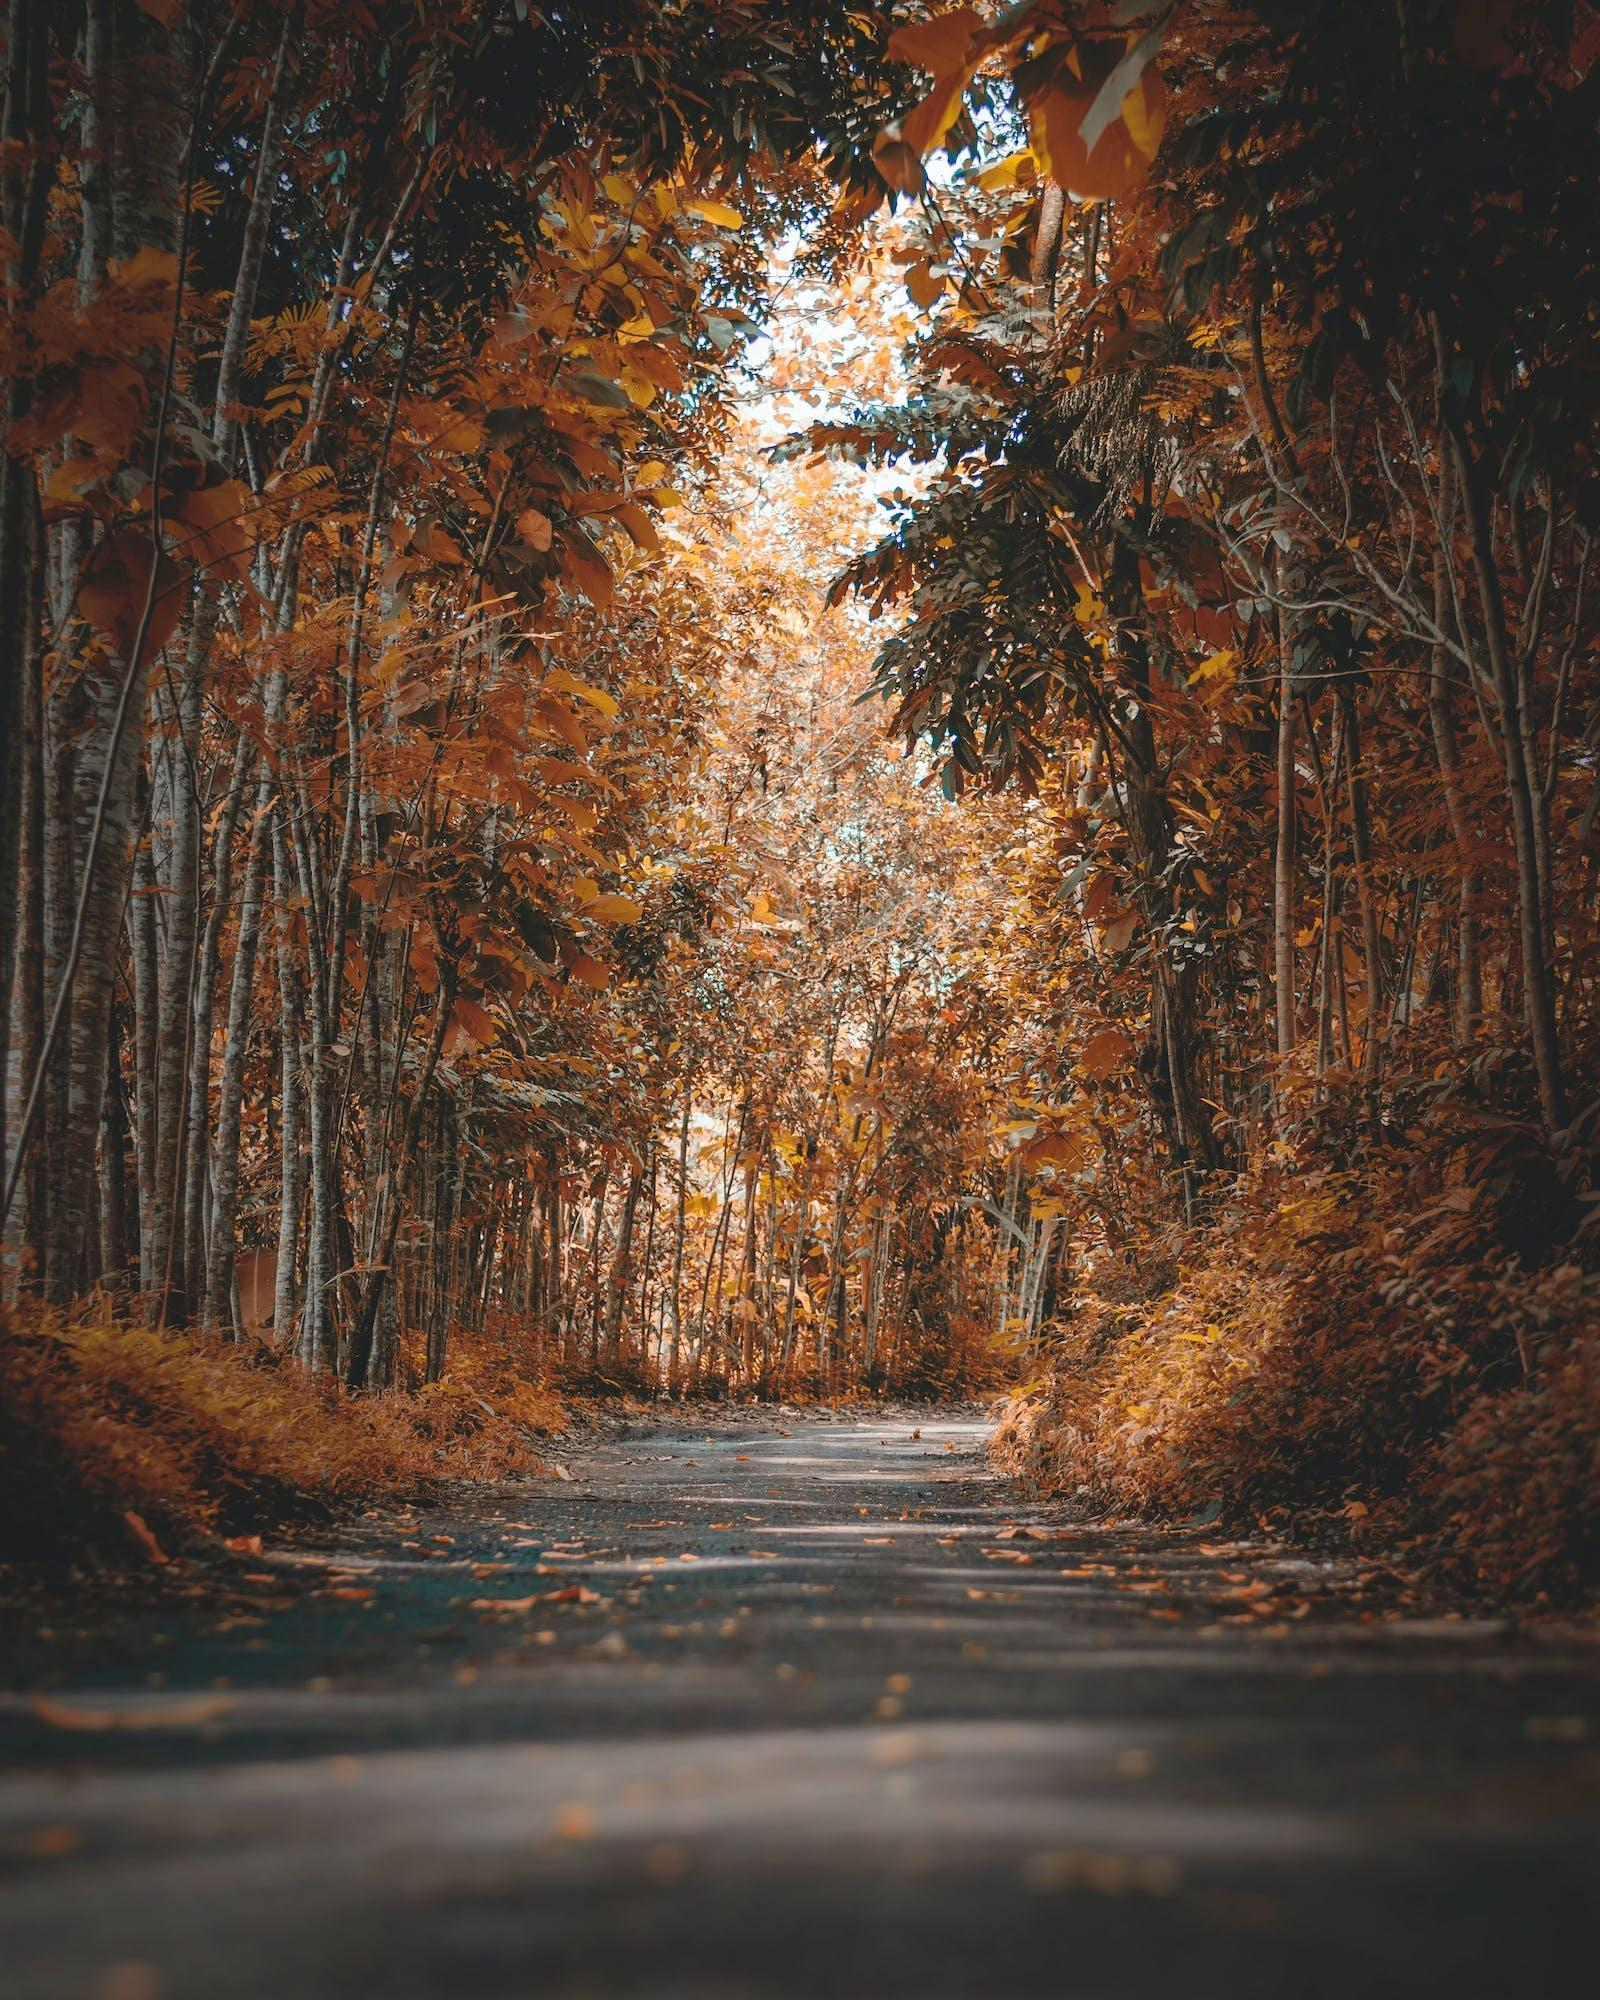road: (5, 1411, 1595, 1998)
